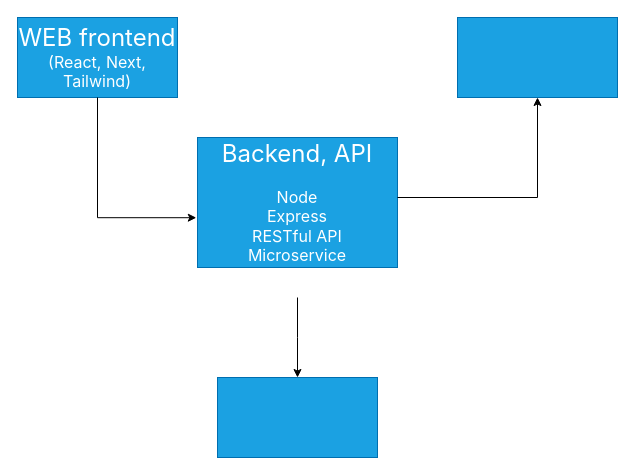
Image size: 635x475. Some labels were removed from this diagram. Here are the shapes that lost their labels. From the top down, the box of each, then its label:
(456, 16, 618, 98): APP frontend (React Native)
(216, 376, 378, 458): DATABASE (PostgreSQL)
